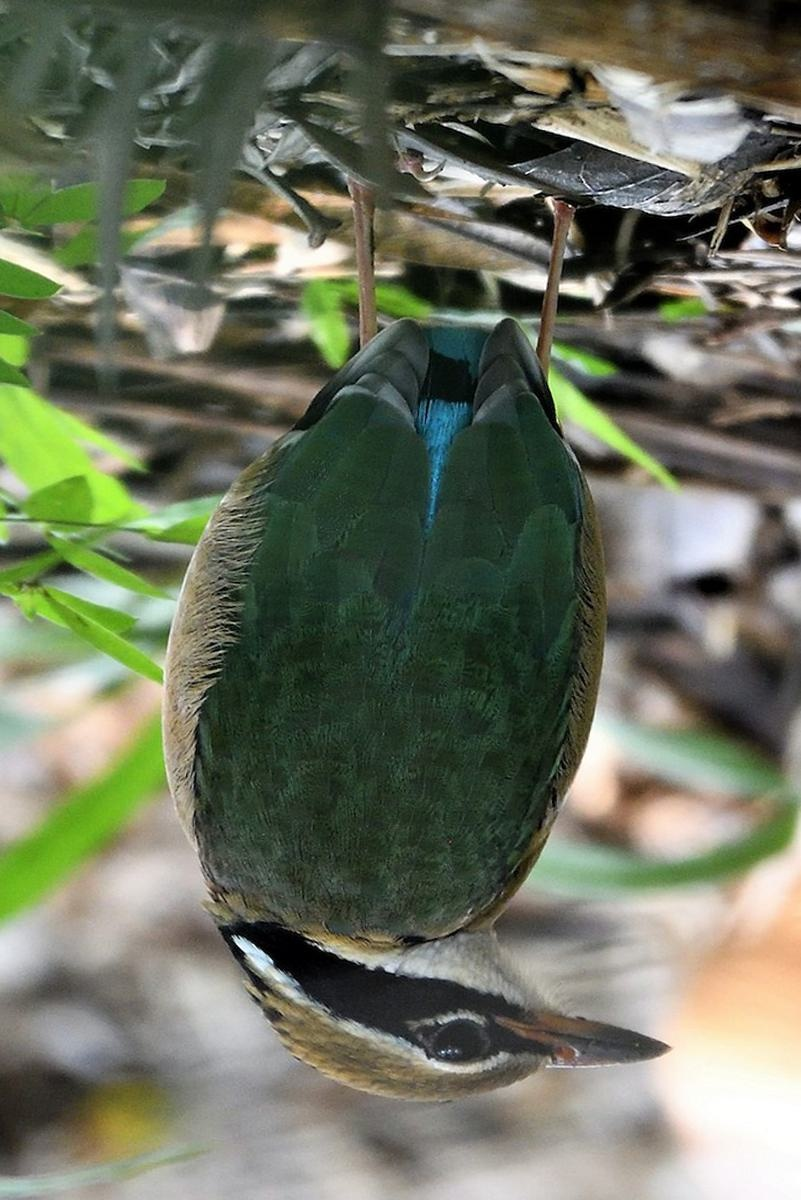pitta: (153, 167, 701, 1134)
